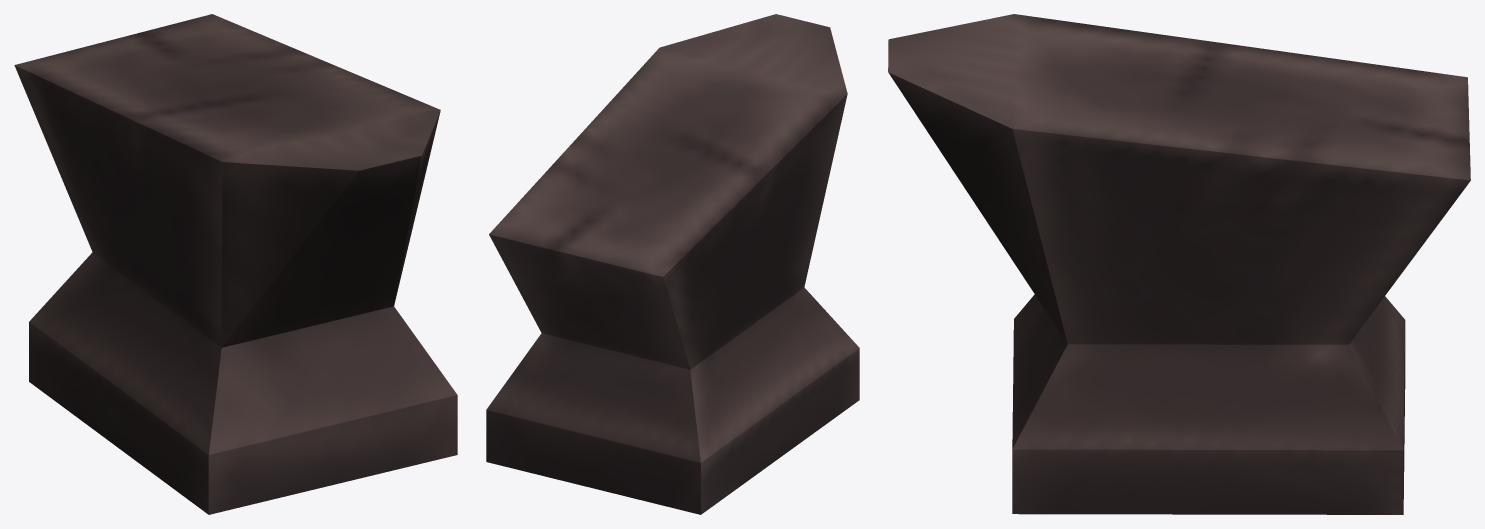
File: smith_2.fbx
3 views of the same model, side by side, from view 1: azimuth 30°, elevation 25°; view 2: azimuth 150°, elevation 25°; view 3: azimuth 270°, elevation 25° (orthographic). The views are drawn at different scales.
Parts seen in each view (by area): view 1: smith_2; view 2: smith_2; view 3: smith_2.
Boxes of the visible parts, x1,y1,x2,y2 form: smith_2: (14, 14, 457, 514); smith_2: (486, 14, 859, 514); smith_2: (888, 14, 1470, 514).
Bounding box in the file's own units: 0.5932 × 0.8271 × 1.11.
